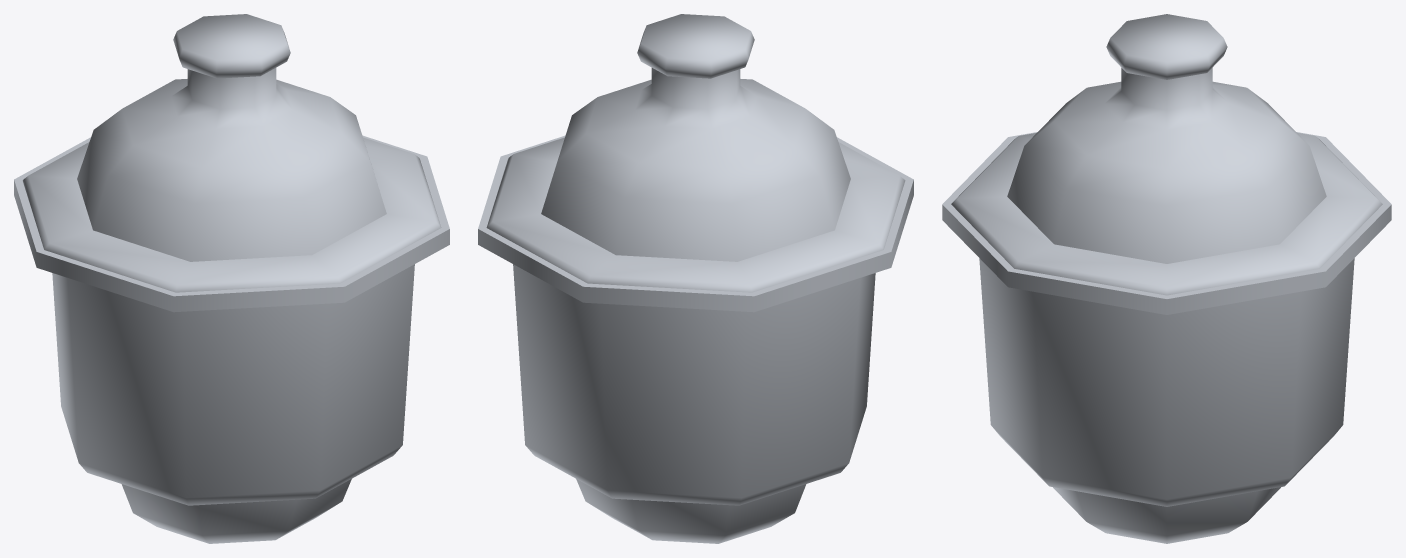
Rendered from machine_desiccator.glb.
3 renders of one model, left to right at view 1: azimuth 30°, elevation 25°; view 2: azimuth 150°, elevation 25°; view 3: azimuth 270°, elevation 25°, orthographic.
Parts seen in each view (by area): view 1: machine_desiccator, machine_desiccator_lid; view 2: machine_desiccator, machine_desiccator_lid; view 3: machine_desiccator, machine_desiccator_lid.
Part boxes in pixels (x1,y1,x2,y2): machine_desiccator: (14, 135, 449, 543); machine_desiccator_lid: (23, 14, 440, 292); machine_desiccator: (478, 135, 913, 543); machine_desiccator_lid: (487, 14, 904, 292); machine_desiccator: (942, 132, 1391, 543); machine_desiccator_lid: (951, 14, 1382, 295).
Size of the model in its own units: 44.3 by 51.05 by 44.3.
2 materials, 2 textured.
